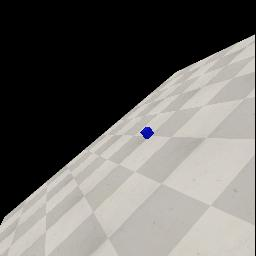box: (140, 127, 154, 139)
